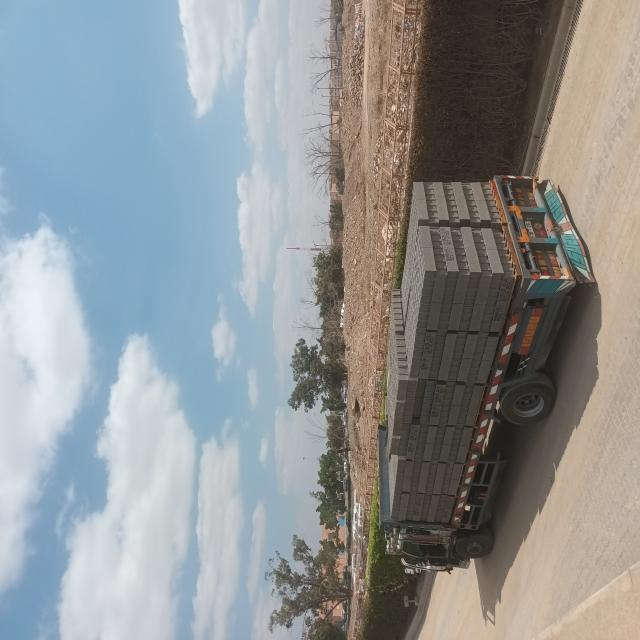bricks: (385, 182, 515, 524)
